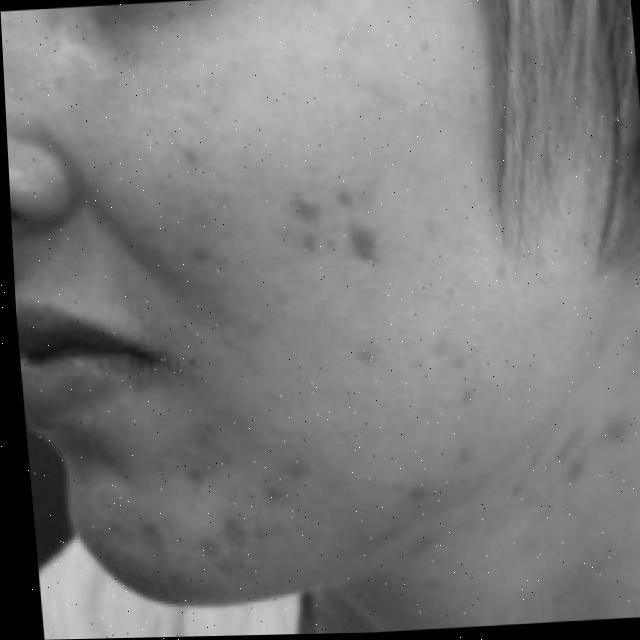Acne: (102, 130, 419, 592)
